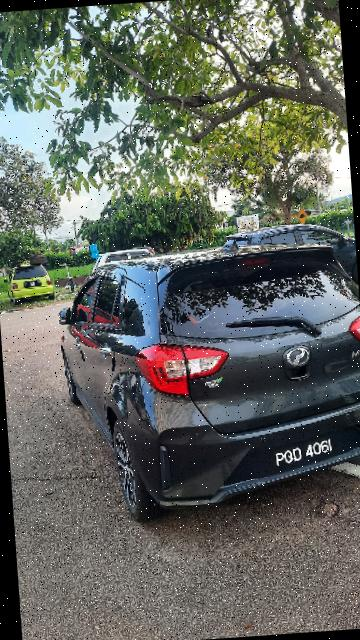License_Plate: (252, 420, 360, 477)
car: (50, 232, 360, 531)
